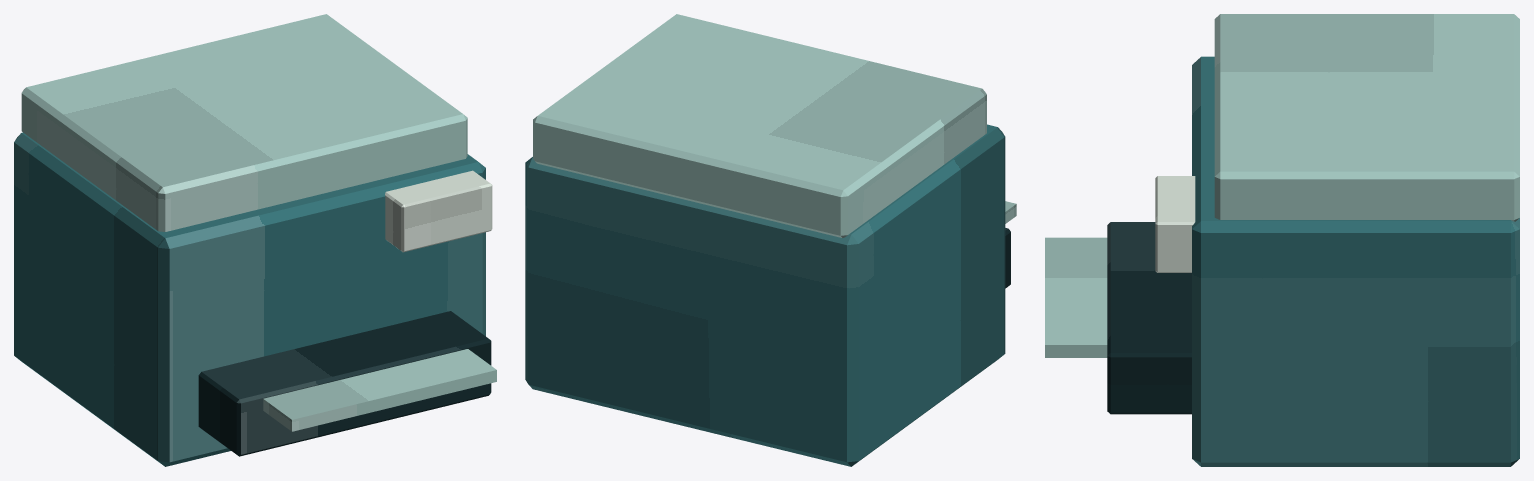
Rendered from office_printer_teal.glb.
The picture shows the model from 3 angles, left to right: view 1: azimuth 30°, elevation 25°; view 2: azimuth 150°, elevation 25°; view 3: azimuth 270°, elevation 25°; orthographic projection. The views are drawn at different scales.
Visible parts, largest first — view 1: PrinterBody, ScannerLid, PaperTray, Paper, ControlPanel; view 2: PrinterBody, ScannerLid; view 3: PrinterBody, ScannerLid, PaperTray, Paper, ControlPanel.
Part boxes in pixels (left/top/right/bottom): PrinterBody: left=14, top=132, right=485, bottom=466; ScannerLid: left=21, top=14, right=467, bottom=231; PaperTray: left=198, top=311, right=491, bottom=456; Paper: left=263, top=349, right=496, bottom=431; ControlPanel: left=385, top=170, right=492, bottom=252; PrinterBody: left=525, top=124, right=1005, bottom=466; ScannerLid: left=533, top=14, right=986, bottom=237; PrinterBody: left=1192, top=56, right=1519, bottom=466; ScannerLid: left=1214, top=14, right=1519, bottom=221; PaperTray: left=1107, top=222, right=1191, bottom=414; Paper: left=1045, top=237, right=1107, bottom=357; ControlPanel: left=1155, top=176, right=1195, bottom=272.
Bounding box in the file's own units: 0.72 × 0.57 × 0.84.
Materials: 1 (1 with a texture image).
